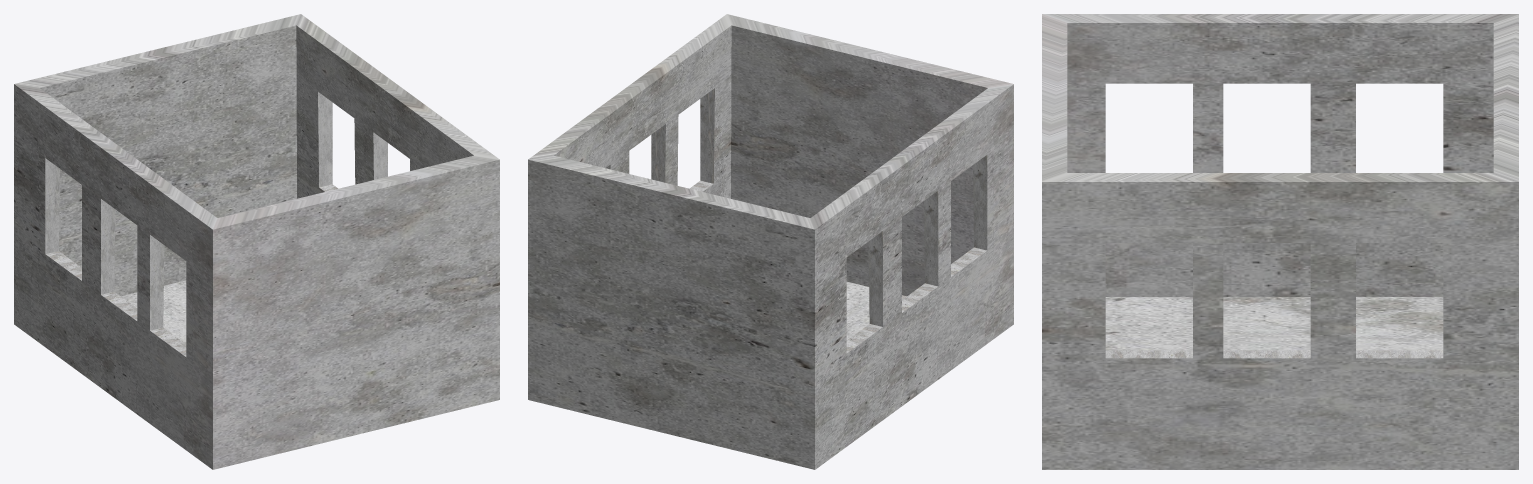
Rendered from habitacion.glb.
3 views of the same model, side by side, from view 1: azimuth 30°, elevation 25°; view 2: azimuth 150°, elevation 25°; view 3: azimuth 270°, elevation 25° (orthographic). The views are drawn at different scales.
Parts seen in each view (by area): view 1: Cube; view 2: Cube; view 3: Cube.
Boxes of the visible parts, left/top/right/bottom form: Cube: left=14, top=14, right=499, bottom=469; Cube: left=528, top=14, right=1013, bottom=469; Cube: left=1042, top=14, right=1518, bottom=469.
Size of the model in its own units: 5 by 4 by 6.
1 material, 1 textured.
